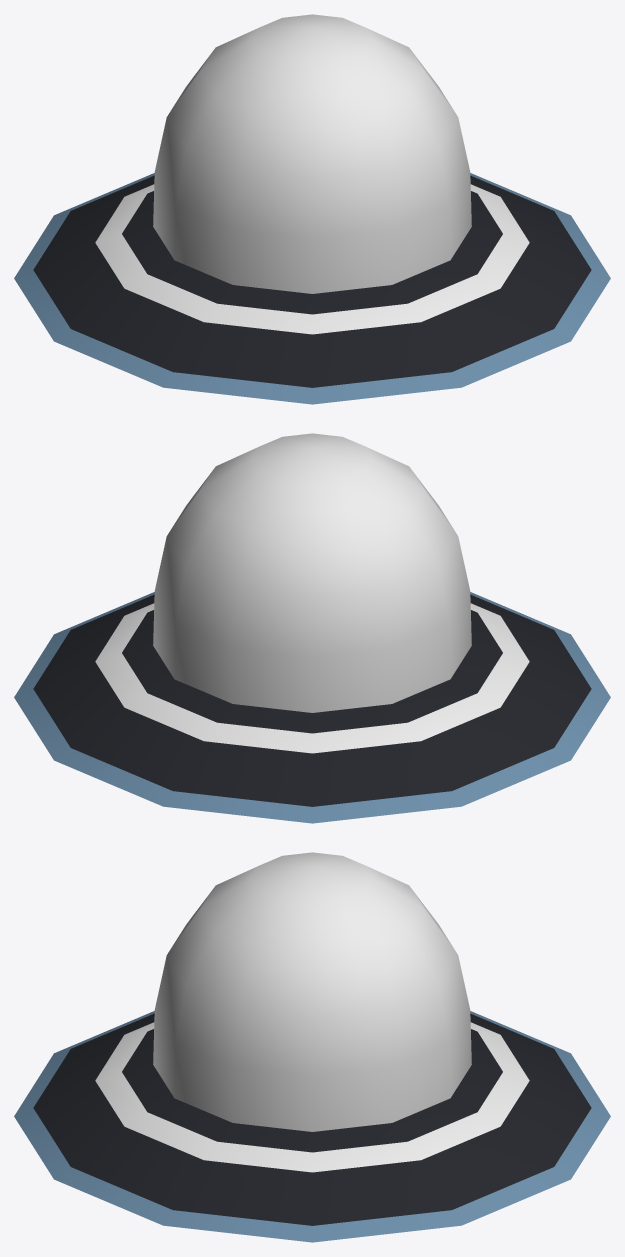
File: Alien Fella.fbx
3 renders of one model, top to bottom at view 1: azimuth 30°, elevation 25°; view 2: azimuth 150°, elevation 25°; view 3: azimuth 270°, elevation 25°, orthographic.
Parts seen in each view (by area): view 1: Rad, Sphere; view 2: Rad, Sphere; view 3: Rad, Sphere.
Part boxes in pixels (x1,y1,x2,y2): Rad: (14,173,610,404); Sphere: (153,14,471,293); Rad: (14,592,610,823); Sphere: (153,433,471,712); Rad: (14,1011,610,1242); Sphere: (153,852,471,1131).
Size of the model in its own units: 2292 by 1356 by 2292.
